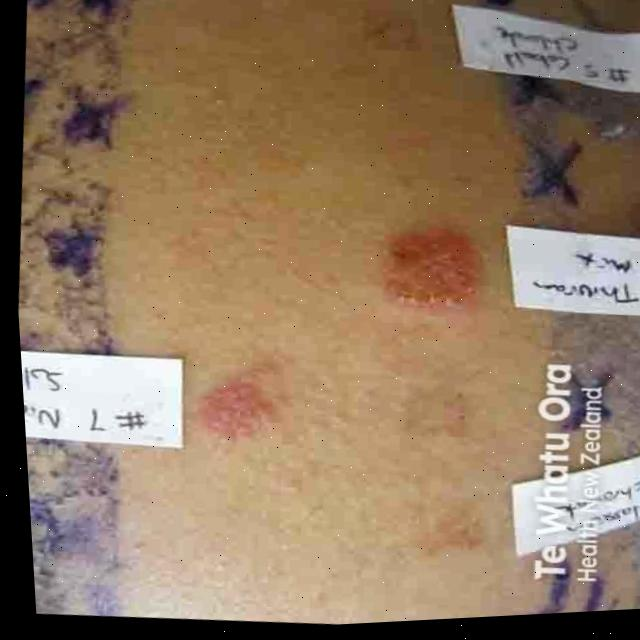Eczema: (383, 232, 463, 322), (202, 347, 282, 435)
